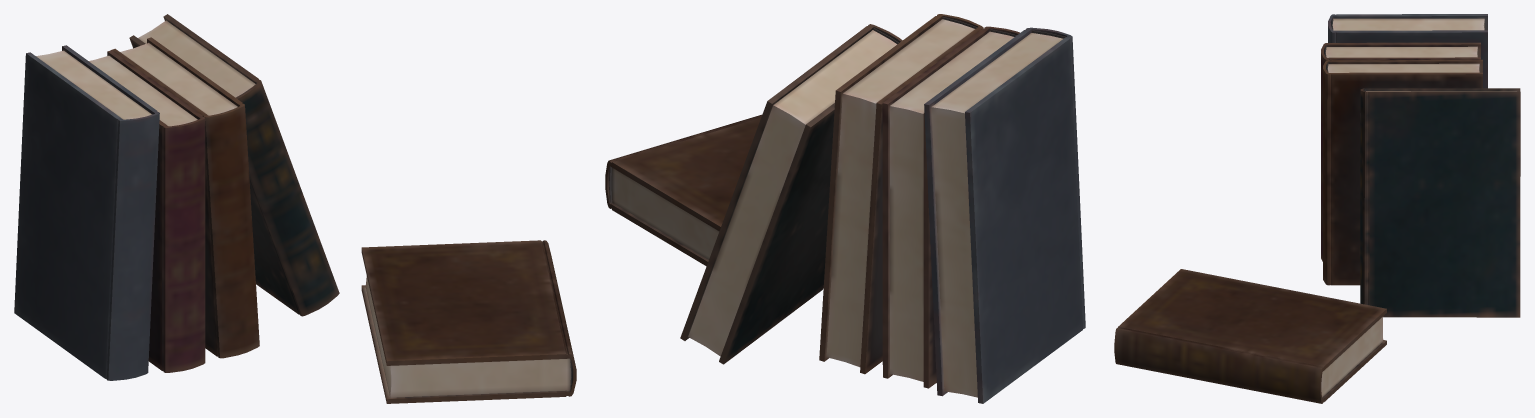
Rendered from book-pile-b.glb.
3 renders of one model, left to right at view 1: azimuth 30°, elevation 25°; view 2: azimuth 150°, elevation 25°; view 3: azimuth 270°, elevation 25°, orthographic. The views are drawn at different scales.
Visible parts, largest first — view 1: book-pile-b; view 2: book-pile-b; view 3: book-pile-b.
Part boxes in pixels (bbox=[...]): book-pile-b: bbox=[14, 14, 576, 403]; book-pile-b: bbox=[605, 14, 1085, 403]; book-pile-b: bbox=[1114, 14, 1520, 403].
Size of the model in its own units: 0.4387 by 0.2494 by 0.4212.
1 material, 1 textured.
